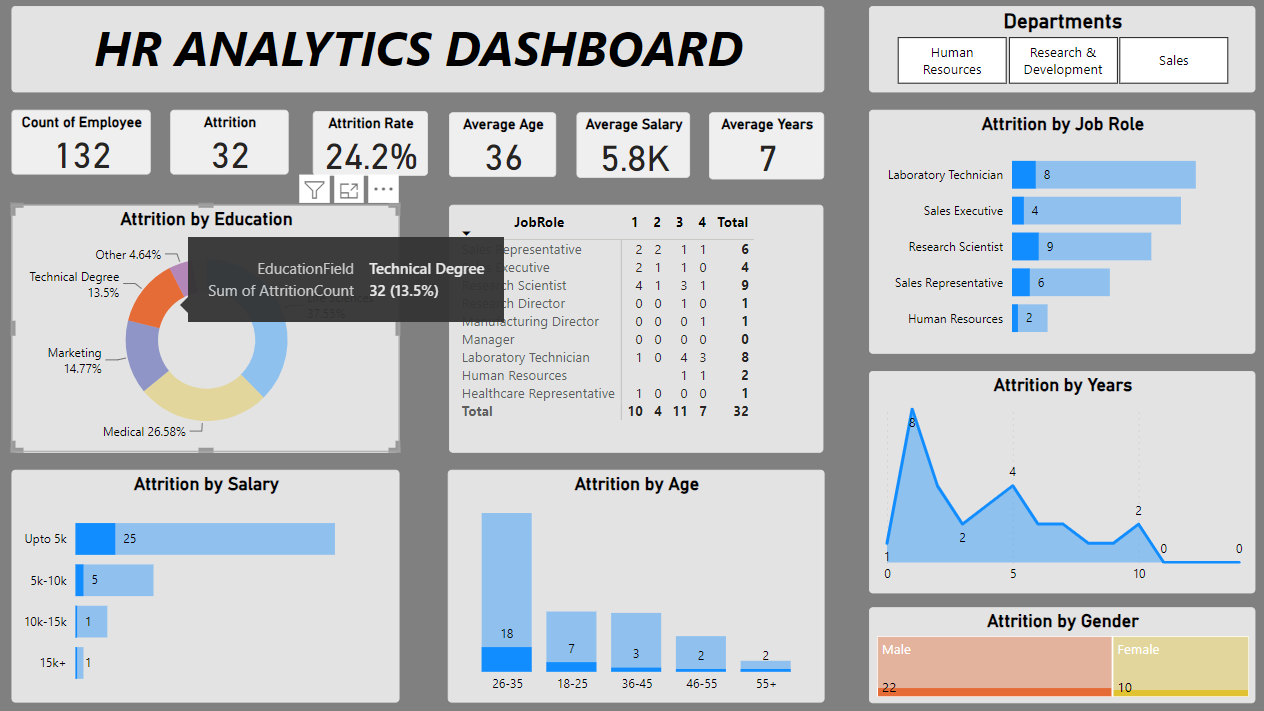

The page's visual inventory and layout, read from the dashboard file:
{"tool":"powerbi","page":{"name":"Page 1","canvas":[1280,720],"ordinal":0},"visuals":[{"type":"card","title":"Count of Employee","fields":{"Values":["CountNonNull(HR_Analytics.EmpID)"]},"box":[17,113.8,139.4,64.9],"z":0},{"type":"card","title":"Attrition","fields":{"Values":["Sum(HR_Analytics.AttritionCount)"]},"box":[176.6,113.8,118.1,64.9],"z":1000},{"type":"card","title":"Attrition Rate","fields":{"Values":["HR_Analytics.AttritionRate"]},"box":[319.1,114.9,114.9,64.9],"z":2000},{"type":"card","title":"Average Age ","fields":{"Values":["Avg(HR_Analytics.Age)"]},"box":[455.3,116,107.4,64.9],"z":3000},{"type":"card","title":"Average Salary","fields":{"Values":["Avg(HR_Analytics.MonthlyIncome)"]},"box":[583,116,113.8,66],"z":4000},{"type":"card","title":"Average Years ","fields":{"Values":["Avg(HR_Analytics.YearsAtCompany)"]},"box":[714.9,116,114.9,67],"z":5000},{"type":"donutChart","title":"Attrition by Education","fields":{"Category":["HR_Analytics.EducationField"],"Y":["Sum(HR_Analytics.AttritionCount)"]},"box":[17,208.5,388.3,247.9],"z":6000},{"type":"columnChart","title":"Attrition by Age","fields":{"Category":["HR_Analytics.AgeGroup"],"Y":["Sum(HR_Analytics.AttritionCount)"]},"box":[453.2,473.4,376.6,233],"z":7000},{"type":"pivotTable","fields":{"Rows":["HR_Analytics.JobRole"],"Columns":["HR_Analytics.JobSatisfaction"],"Values":["Sum(HR_Analytics.AttritionCount)"]},"box":[455.3,208.5,374.5,247.9],"z":8000},{"type":"barChart","title":"Attrition by Salary","fields":{"Category":["HR_Analytics.SalarySlab"],"Y":["Sum(HR_Analytics.AttritionCount)"]},"box":[17,473.4,388.3,233],"z":9000},{"type":"barChart","title":"Attrition by Job Role","fields":{"Category":["HR_Analytics.JobRole"],"Y":["Sum(HR_Analytics.AttritionCount)"]},"box":[875.5,113.8,386.2,243.6],"z":10000},{"type":"areaChart","title":"Attrition by Years","fields":{"Category":["HR_Analytics.YearsAtCompany"],"Y":["Sum(HR_Analytics.AttritionCount)"]},"box":[875,375,386.2,222.5],"z":11000},{"type":"treemap","title":"Attrition by Gender","fields":{"Group":["HR_Analytics.Gender"],"Values":["Sum(HR_Analytics.AttritionCount)"]},"box":[875.5,610.6,386.2,95.7],"z":12000},{"type":"slicer","title":"Departments","fields":{"Values":["HR_Analytics.Department"]},"box":[875.5,9.6,386.2,86.2],"z":13000},{"type":"textbox","box":[17,9.6,812.8,86.2],"z":14000}]}

Visuals, with their boxes in screenshot pixels (x1, y1, x2, y2), scaled from the page's 1280x720 canvas onto the 1264x711 screenshot:
"Count of Employee" card: Rect(17, 112, 154, 176)
"Attrition" card: Rect(174, 112, 291, 176)
"Attrition Rate" card: Rect(315, 113, 429, 178)
"Average Age " card: Rect(450, 115, 556, 179)
"Average Salary" card: Rect(576, 115, 688, 180)
"Average Years " card: Rect(706, 115, 819, 181)
"Attrition by Education" donutChart: Rect(17, 206, 400, 451)
"Attrition by Age" columnChart: Rect(448, 467, 819, 698)
pivotTable - HR_Analytics.JobRole x HR_Analytics.JobSatisfaction: Rect(450, 206, 819, 451)
"Attrition by Salary" barChart: Rect(17, 467, 400, 698)
"Attrition by Job Role" barChart: Rect(865, 112, 1246, 353)
"Attrition by Years" areaChart: Rect(864, 370, 1245, 590)
"Attrition by Gender" treemap: Rect(865, 603, 1246, 697)
"Departments" slicer: Rect(865, 9, 1246, 95)
textbox: Rect(17, 9, 819, 95)
